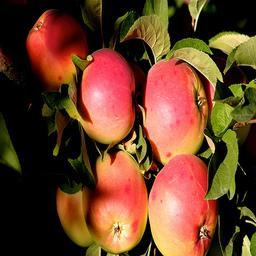apple: (146, 154, 216, 254), (142, 58, 206, 164), (84, 149, 147, 253), (70, 48, 137, 145), (24, 8, 88, 92)
